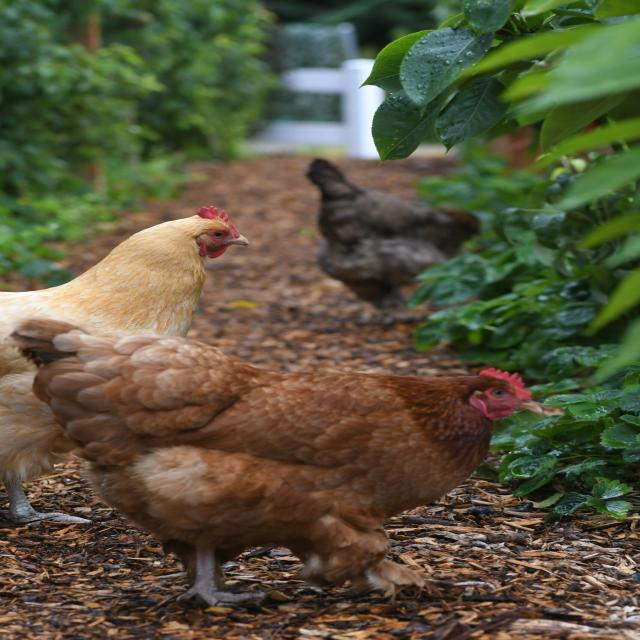chicken: (0, 207, 557, 608), (25, 309, 555, 627), (4, 190, 256, 542)
